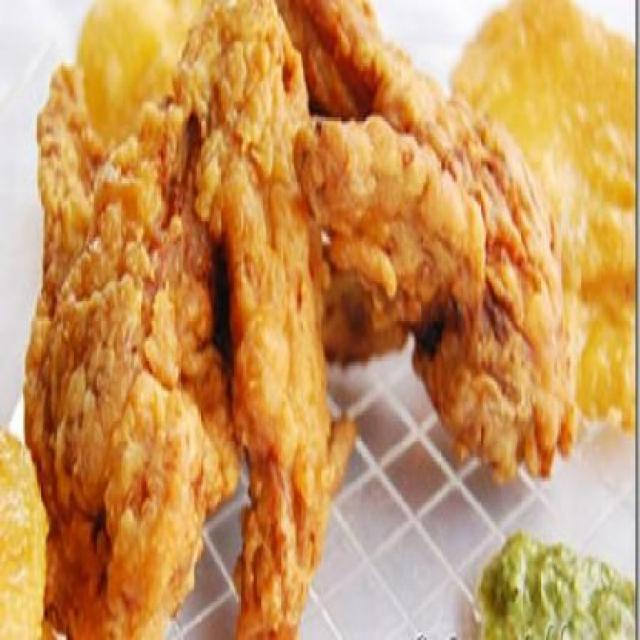Deep fried chicken wing: (36, 14, 575, 604)
